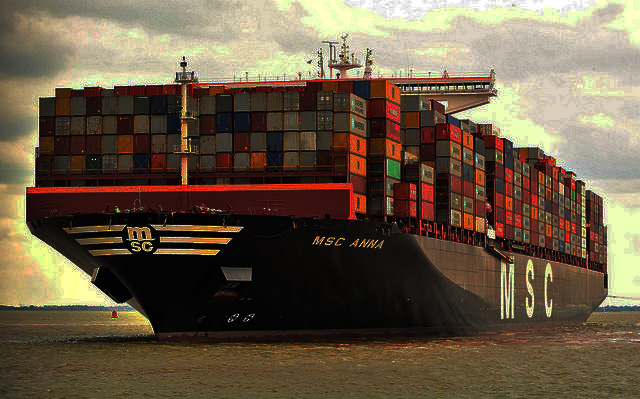container_ship: (24, 33, 609, 342)
